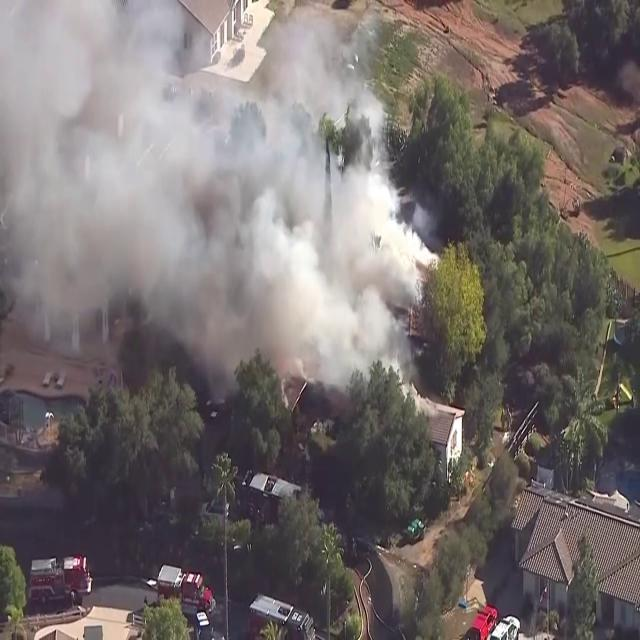Smoke: (0, 1, 431, 403)
